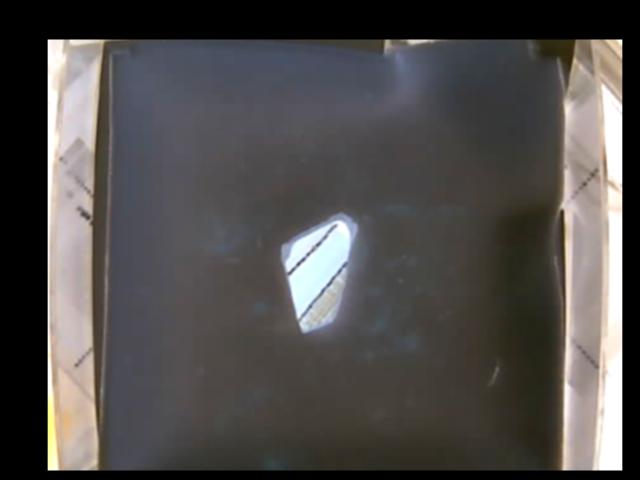China: (282, 213, 354, 332)
